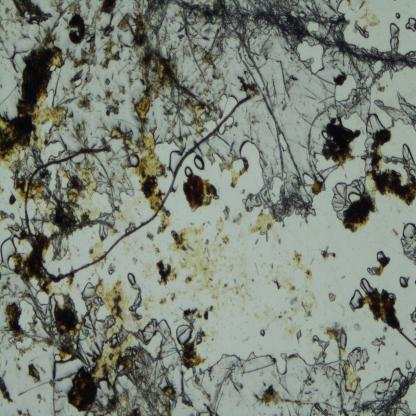Air bubble: (312, 359, 366, 416), (370, 90, 416, 132), (329, 174, 366, 218), (133, 317, 175, 354), (241, 347, 289, 375), (295, 38, 325, 74), (312, 164, 342, 196), (0, 226, 19, 271), (213, 88, 238, 118), (292, 290, 318, 317), (400, 222, 416, 263), (334, 73, 357, 100), (18, 298, 36, 332), (347, 347, 370, 371), (35, 140, 64, 159), (401, 143, 416, 179), (242, 191, 262, 212), (388, 22, 400, 56), (218, 115, 236, 136), (176, 324, 194, 344), (312, 335, 332, 352), (167, 148, 179, 176), (349, 288, 363, 312), (80, 282, 98, 300), (354, 20, 370, 38), (13, 334, 32, 349), (276, 129, 287, 152), (360, 278, 374, 294), (306, 20, 320, 36), (404, 16, 416, 32), (302, 172, 315, 186), (98, 223, 108, 241), (128, 153, 140, 167), (194, 155, 204, 171), (398, 276, 411, 288), (370, 337, 385, 347), (372, 60, 383, 73), (128, 272, 137, 286), (375, 250, 387, 260), (366, 266, 379, 275), (73, 77, 83, 88), (184, 166, 193, 178), (54, 351, 62, 363), (404, 360, 413, 370), (321, 130, 330, 140), (396, 12, 402, 20)
Background material: (25, 94, 252, 278), (71, 330, 178, 416), (5, 274, 94, 370), (0, 46, 70, 165), (30, 166, 118, 252), (133, 44, 216, 133), (117, 0, 242, 49), (170, 215, 227, 304), (237, 38, 287, 132), (110, 126, 167, 208), (240, 0, 315, 48), (322, 13, 375, 78), (59, 0, 98, 70), (363, 366, 416, 416), (268, 176, 317, 226), (305, 92, 335, 172), (365, 160, 416, 205), (365, 166, 416, 209), (323, 115, 361, 163), (361, 287, 401, 332), (252, 380, 313, 408), (10, 144, 44, 192), (369, 47, 416, 81), (101, 280, 129, 330), (97, 22, 125, 70), (344, 189, 376, 231), (0, 2, 33, 42), (364, 122, 394, 164), (93, 77, 126, 115), (68, 67, 95, 113), (337, 80, 370, 117), (13, 0, 54, 29), (230, 268, 256, 313), (68, 110, 96, 150), (220, 360, 248, 399), (267, 261, 296, 295), (318, 319, 348, 351), (0, 282, 13, 354), (90, 0, 121, 29), (218, 160, 250, 188), (289, 250, 315, 284), (189, 362, 212, 400), (179, 340, 208, 370), (250, 210, 275, 241), (4, 43, 27, 71), (156, 256, 177, 286), (280, 60, 297, 97), (182, 305, 213, 324), (128, 285, 144, 320), (178, 374, 194, 408), (278, 311, 298, 338), (19, 380, 51, 396), (49, 359, 57, 416), (361, 11, 382, 31), (256, 308, 278, 326), (28, 361, 46, 383), (157, 207, 171, 234), (313, 152, 328, 174), (0, 378, 13, 403), (143, 295, 156, 319), (369, 78, 388, 94), (318, 246, 338, 260), (376, 257, 389, 275), (305, 366, 316, 386), (232, 210, 244, 226), (0, 209, 17, 220), (288, 295, 300, 309), (312, 182, 324, 196), (106, 261, 117, 276), (222, 203, 230, 222), (7, 192, 17, 207), (210, 324, 219, 340), (13, 354, 22, 370), (36, 392, 48, 404), (16, 348, 32, 357), (16, 407, 31, 416), (146, 230, 156, 243), (409, 306, 416, 324), (199, 328, 208, 342), (358, 0, 369, 11), (125, 221, 136, 232), (295, 328, 302, 344), (345, 0, 356, 9), (158, 297, 168, 306), (352, 322, 360, 333), (328, 292, 336, 302), (196, 334, 203, 345), (306, 327, 312, 339), (254, 263, 260, 275), (153, 247, 162, 255), (132, 256, 139, 266), (392, 229, 400, 236), (280, 352, 288, 359), (382, 324, 387, 332), (139, 244, 144, 252), (276, 236, 280, 244), (260, 330, 265, 336), (255, 237, 258, 245), (413, 337, 416, 342), (341, 276, 345, 279)
Diatom: (74, 69, 83, 81), (83, 328, 90, 338), (102, 136, 106, 145), (2, 370, 6, 378), (282, 104, 286, 111), (210, 306, 214, 312), (199, 368, 202, 374)
Microfibre: (16, 233, 56, 294)
